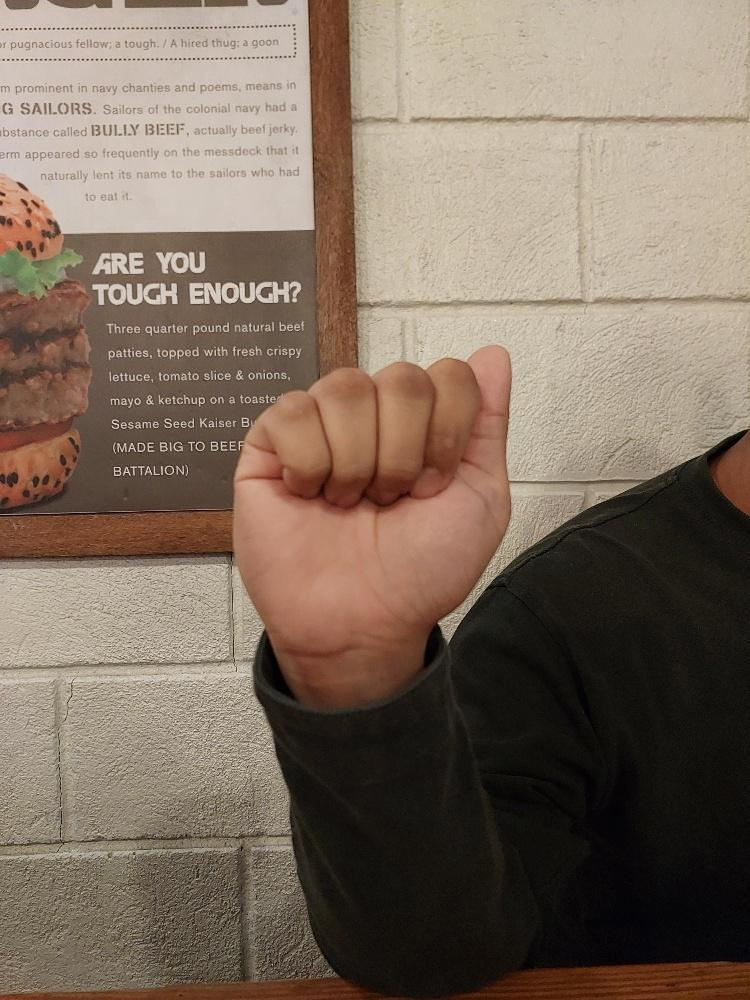a: (230, 340, 515, 657)
